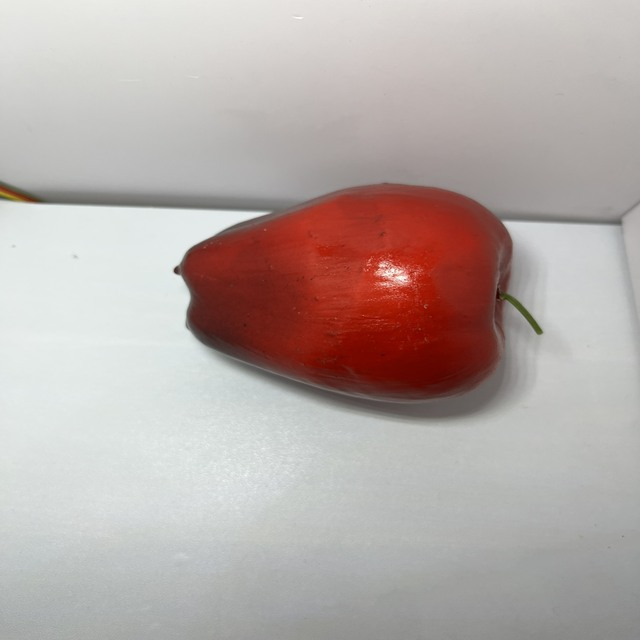Tao: (172, 171, 521, 404)
